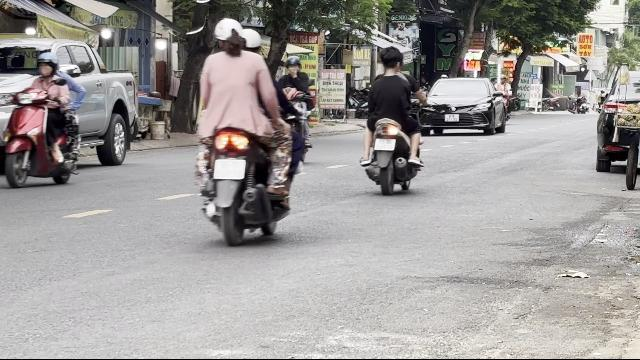helmet: (213, 18, 245, 52), (34, 51, 58, 79), (242, 27, 262, 51)
licenseplate: (214, 159, 246, 179), (375, 138, 395, 150)
motorcyclist: (189, 17, 307, 246), (1, 50, 88, 190), (357, 47, 425, 193)
nohelmet: (378, 46, 404, 74)
